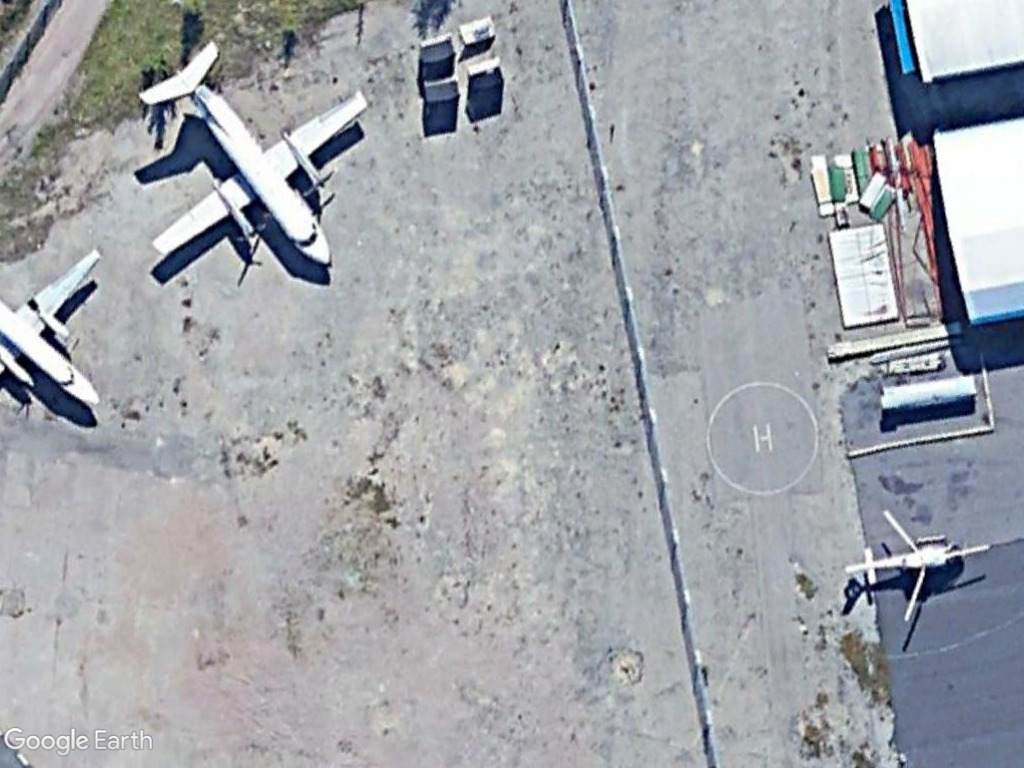helicopter: (830, 504, 991, 631)
propeller: (137, 35, 370, 290)
